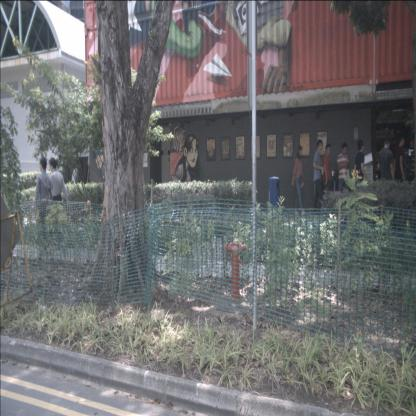human-pedestrian-adult: (34, 157, 52, 257), (48, 158, 66, 254), (376, 136, 396, 217), (353, 138, 369, 214), (394, 134, 409, 215), (336, 142, 350, 218), (292, 145, 306, 216), (312, 139, 324, 216), (399, 147, 411, 212), (323, 142, 333, 217), (70, 162, 82, 214)
